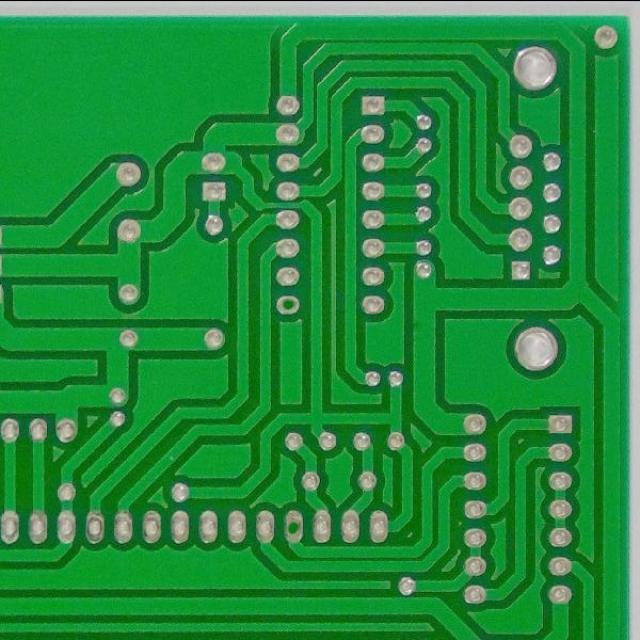Missing_Hole: (280, 508, 307, 546), (274, 293, 302, 316)
